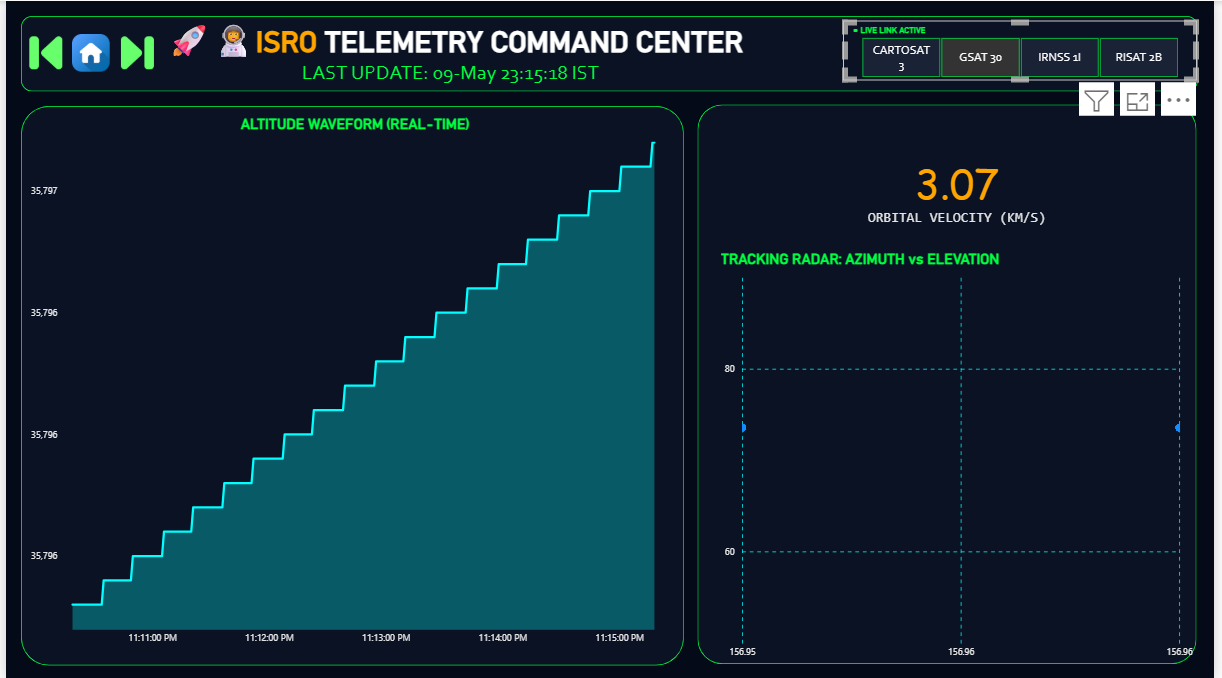

The page's visual inventory and layout, read from the dashboard file:
{"tool":"powerbi","page":{"name":"ORBITAL DYNAMICS","canvas":[1600,900],"ordinal":2},"visuals":[{"type":"shape","box":[916.5,137,661.4,741.7],"z":0},{"type":"shape","box":[20,20,1560,100],"z":1000},{"type":"slicer","fields":{"Values":["Master_ISRO_Telemetry.satname"]},"box":[1110.2,26.8,467.7,79.5],"z":2000},{"type":"textbox","box":[207.9,16.5,810.2,73.2],"z":3000},{"type":"shape","box":[18.9,139.4,878.7,741.7],"z":4000},{"type":"areaChart","title":"ALTITUDE WAVEFORM (REAL-TIME)","fields":{"Y":["Avg(Master_ISRO_Telemetry.Altitude (km))"],"Category":["Master_ISRO_Telemetry.IST_TIME"]},"box":[28.3,151.2,869.3,711],"z":5000},{"type":"scatterChart","title":"TRACKING RADAR: AZIMUTH vs ELEVATION","fields":{"X":["Avg(Master_ISRO_Telemetry.Azimuth)"],"Y":["Avg(Master_ISRO_Telemetry.Elevation)"],"Category":["Master_ISRO_Telemetry.IST_TIME"]},"box":[942.5,330.7,635.4,550.4],"z":6000},{"type":"card","fields":{"Values":["Master_ISRO_Telemetry.Live_Velocity_kms"]},"box":[942.5,151.2,635.4,198.4],"z":7000},{"type":"card","fields":{"Values":["Master_ISRO_Telemetry.Last_Sync_Time"]},"box":[266.9,51.2,644.9,85],"z":8000},{"type":"image","box":[87.5,43.7,49.7,49.7],"z":9000},{"type":"image","box":[149.1,43.7,49.7,49.7],"z":10000},{"type":"image","box":[27.8,43.7,49.7,49.7],"z":11000}]}

Visuals, with their boxes in screenshot pixels (x1, y1, x2, y2), scaled from the page's 1600x900 canvas onto the 1222x678 screenshot:
shape: x1=700, y1=103, x2=1205, y2=662
shape: x1=15, y1=15, x2=1207, y2=90
slicer - Master_ISRO_Telemetry.satname: x1=848, y1=20, x2=1205, y2=80
textbox: x1=159, y1=12, x2=778, y2=68
shape: x1=14, y1=105, x2=686, y2=664
"ALTITUDE WAVEFORM (REAL-TIME)" areaChart: x1=22, y1=114, x2=686, y2=650
"TRACKING RADAR: AZIMUTH vs ELEVATION" scatterChart: x1=720, y1=249, x2=1205, y2=664
card - Master_ISRO_Telemetry.Live_Velocity_kms: x1=720, y1=114, x2=1205, y2=263
card - Master_ISRO_Telemetry.Last_Sync_Time: x1=204, y1=39, x2=696, y2=103
image: x1=67, y1=33, x2=105, y2=70
image: x1=114, y1=33, x2=152, y2=70
image: x1=21, y1=33, x2=59, y2=70
